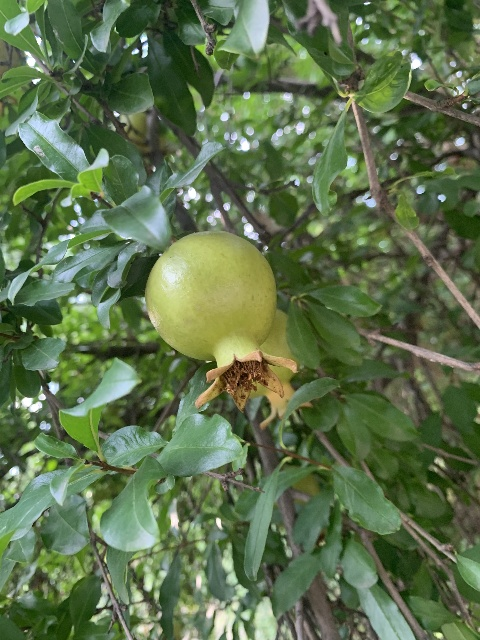mid-growth: (144, 230, 298, 413), (247, 308, 313, 430)
